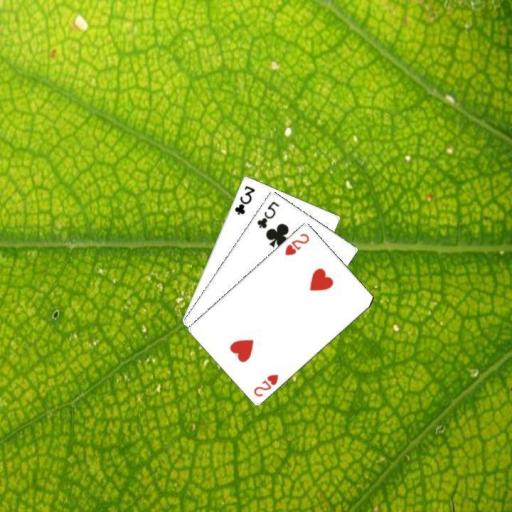card-corner: (253, 198, 281, 230), (231, 182, 257, 216), (250, 370, 280, 398), (282, 230, 310, 256)
